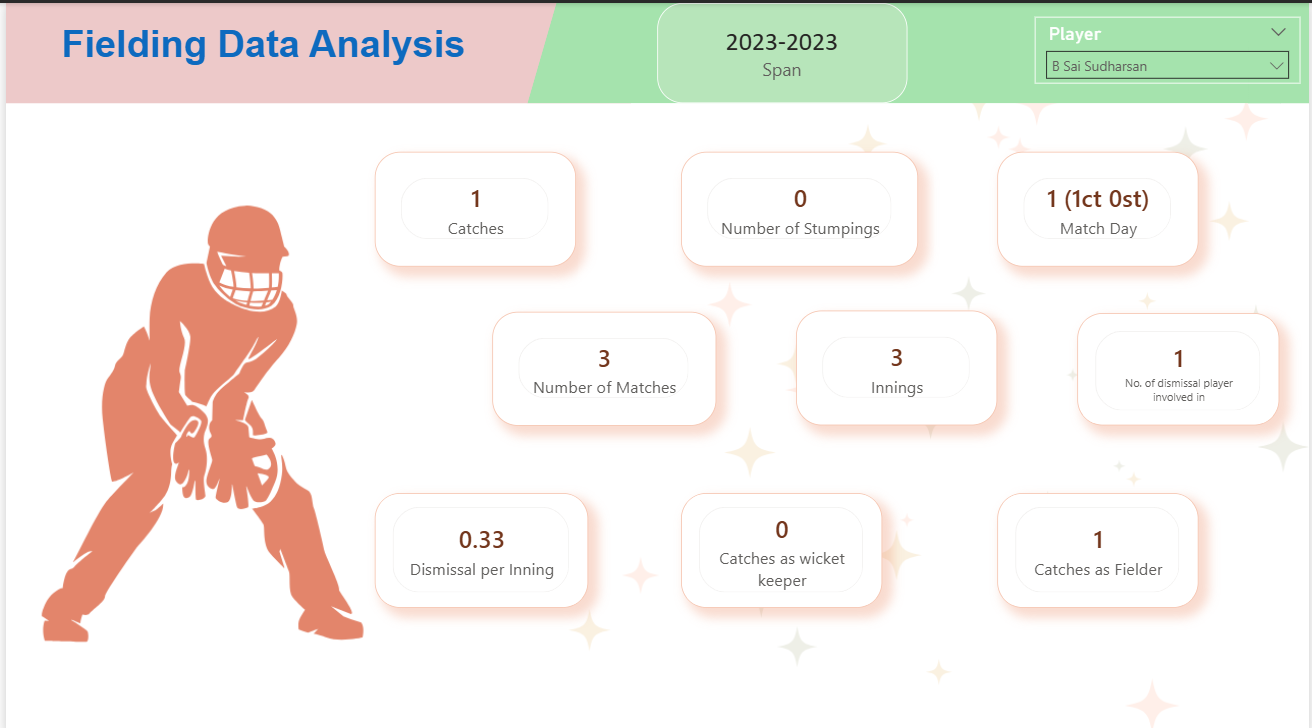

The page's visual inventory and layout, read from the dashboard file:
{"tool":"powerbi","page":{"name":"Fielding","canvas":[1280,720],"ordinal":2},"visuals":[{"type":"shape","box":[0,0,613.4,98.8],"z":0},{"type":"shape","box":[511.6,0,768.4,98.8],"z":1000},{"type":"shape","box":[1219.6,0,60.4,98.8],"z":2000},{"type":"textbox","box":[28.8,13.7,448.7,85.1],"z":3000},{"type":"slicer","fields":{"Values":["fielding.Player"]},"box":[1010,13.7,260.7,65.9],"z":3001},{"type":"cardVisual","fields":{"Data":["Min(fielding.Span)"]},"box":[639.5,0,245.6,98.8],"z":3002},{"type":"cardVisual","fields":{"Data":["Sum(fielding.Ct)"]},"box":[362,146,197.5,112.9],"z":3003},{"type":"cardVisual","fields":{"Data":["Sum(fielding.St)"]},"box":[662.6,146,233.1,112.9],"z":3004},{"type":"cardVisual","fields":{"Data":["Min(fielding.MD)"]},"box":[973,146,197.5,112.9],"z":3005},{"type":"cardVisual","fields":{"Data":["Sum(fielding.Mat)"]},"box":[477.3,303.1,219.6,111.7],"z":3006},{"type":"cardVisual","fields":{"Data":["Sum(fielding.Dis)"]},"box":[1051.5,304.3,198.8,110.4],"z":3007},{"type":"cardVisual","fields":{"Data":["Sum(fielding.Inns)"]},"box":[775.5,301.8,197.5,112.9],"z":3008},{"type":"cardVisual","fields":{"Data":["Sum(fielding.D/I)"]},"box":[362,481,209.8,112.9],"z":3009},{"type":"cardVisual","fields":{"Data":["Sum(fielding.Ct Wk)"]},"box":[662.6,481,197.5,112.9],"z":3010},{"type":"cardVisual","fields":{"Data":["Sum(fielding.Ct Fi)"]},"box":[973,481,197.5,112.9],"z":3011}]}

Visuals, with their boxes in screenshot pixels (x1, y1, x2, y2), scaled from the page's 1280x720 canvas onto the 1312x728 screenshot:
shape: 0/0/629/100
shape: 524/0/1311/100
shape: 1250/0/1311/100
textbox: 30/14/489/100
slicer - fielding.Player: 1035/14/1302/80
cardVisual - Min(fielding.Span): 655/0/907/100
cardVisual - Sum(fielding.Ct): 371/148/573/262
cardVisual - Sum(fielding.St): 679/148/918/262
cardVisual - Min(fielding.MD): 997/148/1200/262
cardVisual - Sum(fielding.Mat): 489/306/714/419
cardVisual - Sum(fielding.Dis): 1078/308/1282/419
cardVisual - Sum(fielding.Inns): 795/305/997/419
cardVisual - Sum(fielding.D/I): 371/486/586/600
cardVisual - Sum(fielding.Ct Wk): 679/486/882/600
cardVisual - Sum(fielding.Ct Fi): 997/486/1200/600
